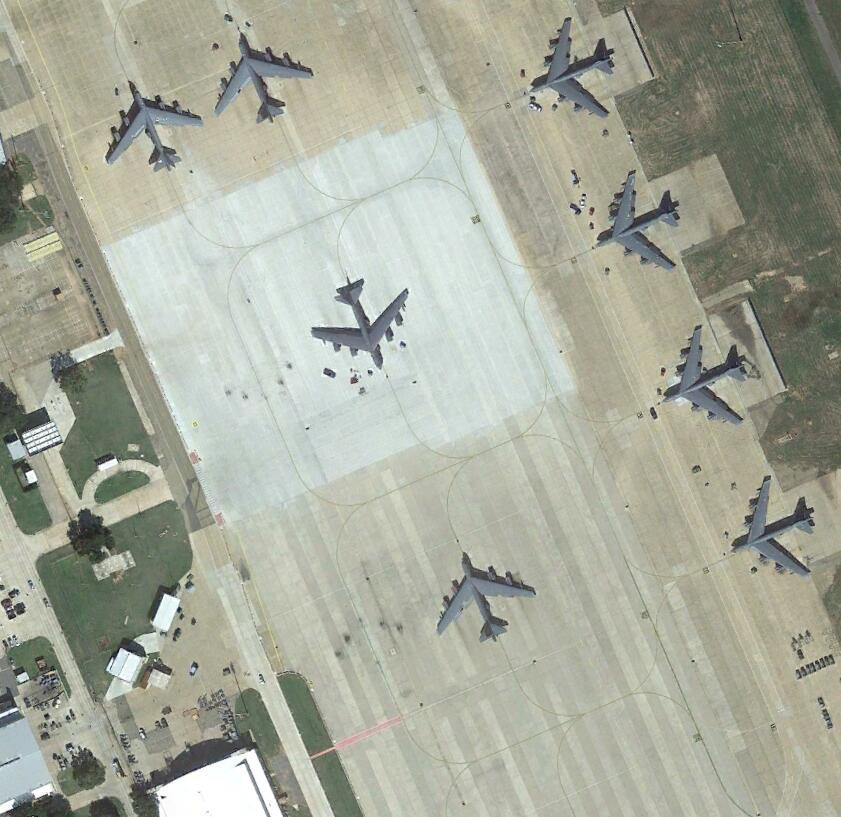A8: (591, 169, 694, 275), (306, 273, 415, 373), (528, 14, 626, 125), (658, 322, 755, 429), (727, 472, 818, 584), (100, 82, 206, 178), (213, 28, 314, 125), (434, 548, 536, 644)
